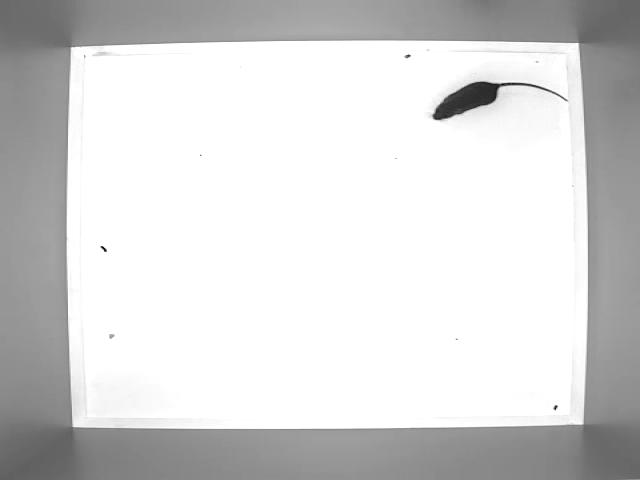Tikus: (429, 77, 573, 126)
